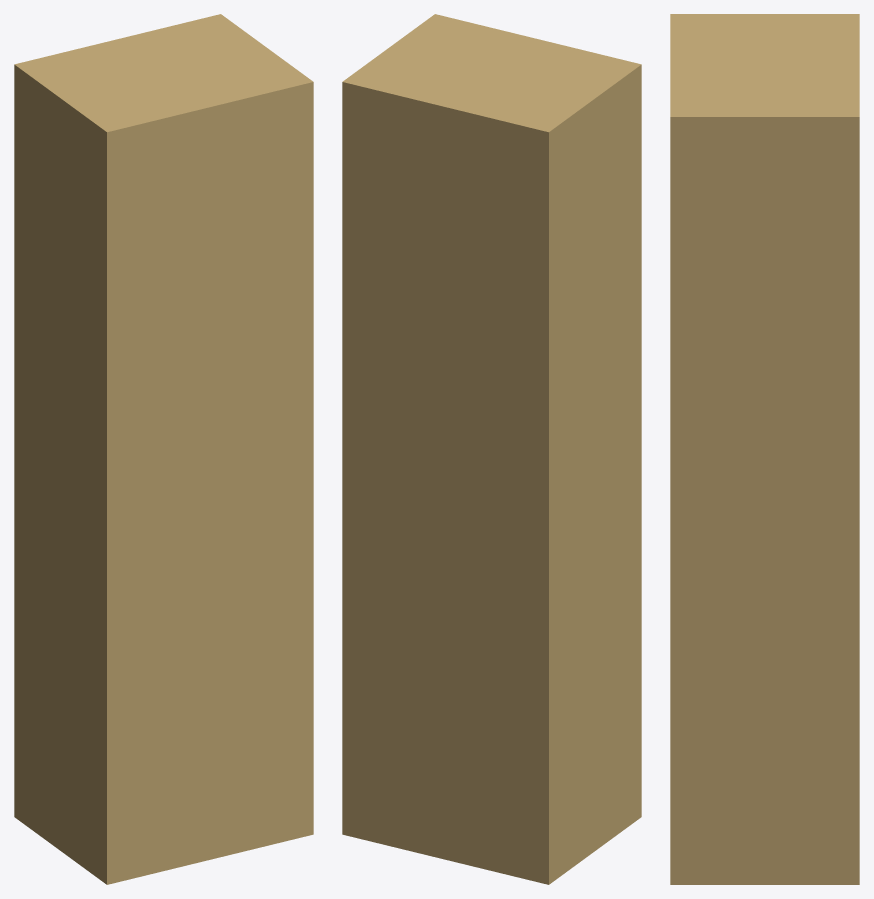
The picture shows the model from 3 angles, left to right: view 1: azimuth 30°, elevation 25°; view 2: azimuth 150°, elevation 25°; view 3: azimuth 270°, elevation 25°; orthographic projection. The views are drawn at different scales.
Visible parts, largest first — view 1: L1-3-S9-325-WEB09; view 2: L1-3-S9-325-WEB09; view 3: L1-3-S9-325-WEB09.
Boxes of the visible parts, <box> form: L1-3-S9-325-WEB09: <box>14,14,313,884</box>; L1-3-S9-325-WEB09: <box>342,14,641,884</box>; L1-3-S9-325-WEB09: <box>670,14,859,884</box>.
Bounding box in the file's own units: 0.045 × 0.1566 × 0.035.
